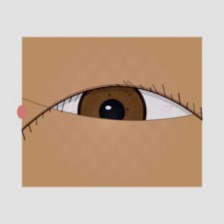pinguecula_lesion: (31, 97, 60, 121)
